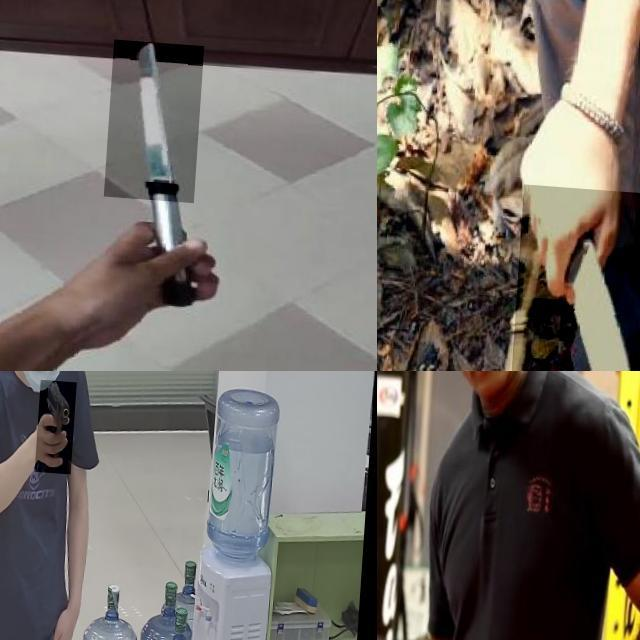-: (516, 179, 640, 371), (110, 36, 208, 198), (377, 450, 418, 640)
gun-knife-thesis - v11 Yolov5 augmented: (38, 376, 79, 470)
